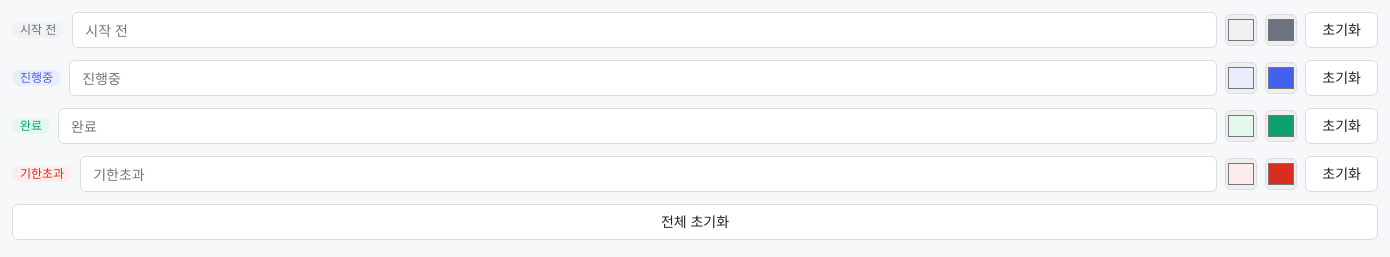
Test case: StatusDisplaySettings › 라벨 입력창에 값을 입력하면 스토어에 반영되고 배지 텍스트가 즉시 바뀐다
Type "늦음" into the field named "기한초과 표시 이름". click: (649, 174)
box: [80, 156, 1217, 192]
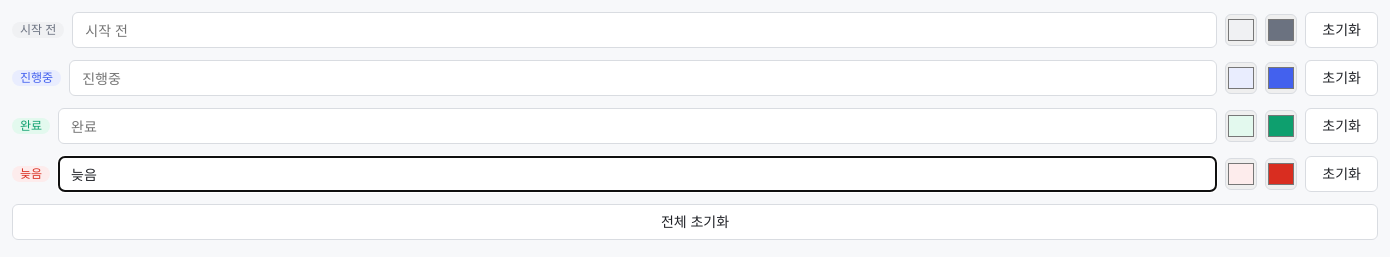
Result: the text "늦음" is shown at [12, 166, 50, 182]
